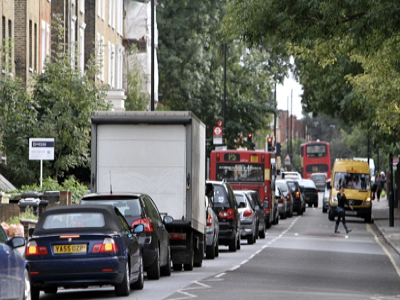licence: (54, 243, 88, 256)
